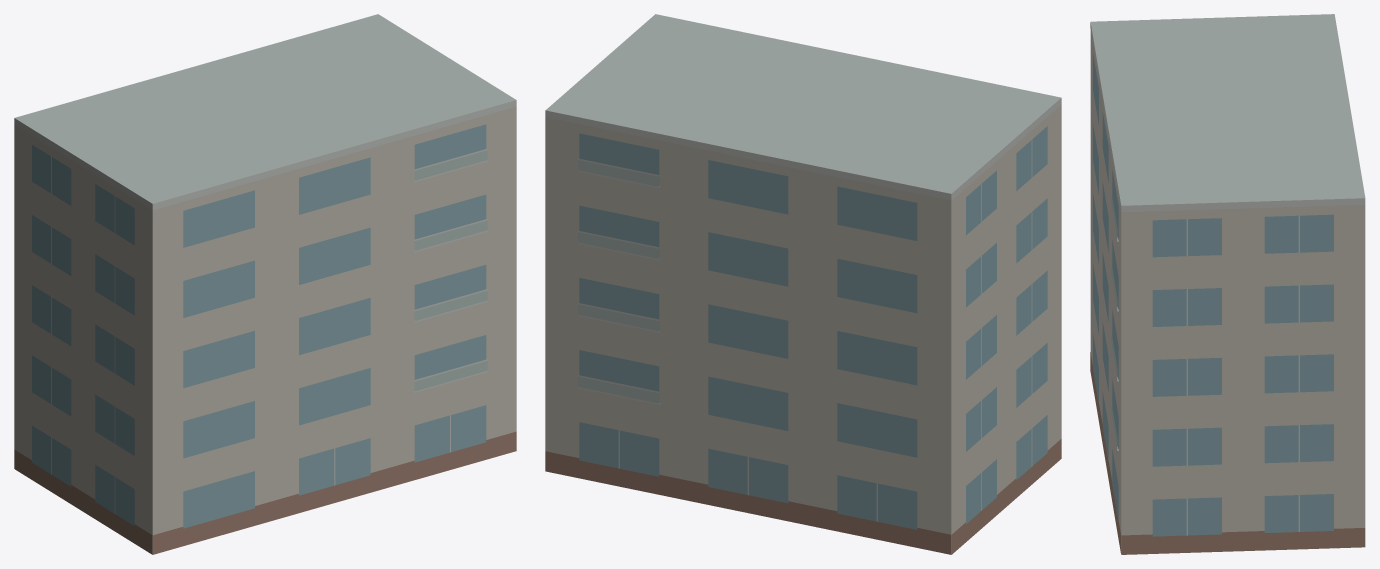
File: survey-upis-32698594.glb
3 views of the same model, side by side, from view 1: azimuth 30°, elevation 25°; view 2: azimuth 150°, elevation 25°; view 3: azimuth 270°, elevation 25° (orthographic). The views are drawn at different scales.
Parts seen in each view (by area): view 1: survey-upis-32698594.tmp; view 2: survey-upis-32698594.tmp; view 3: survey-upis-32698594.tmp.
Part boxes in pixels (box(x1,y1,x2,y2)): survey-upis-32698594.tmp: box(14, 14, 516, 554); survey-upis-32698594.tmp: box(545, 14, 1061, 554); survey-upis-32698594.tmp: box(1090, 14, 1365, 554).
Bounding box in the file's own units: 15.68 × 13.3 × 9.5.
